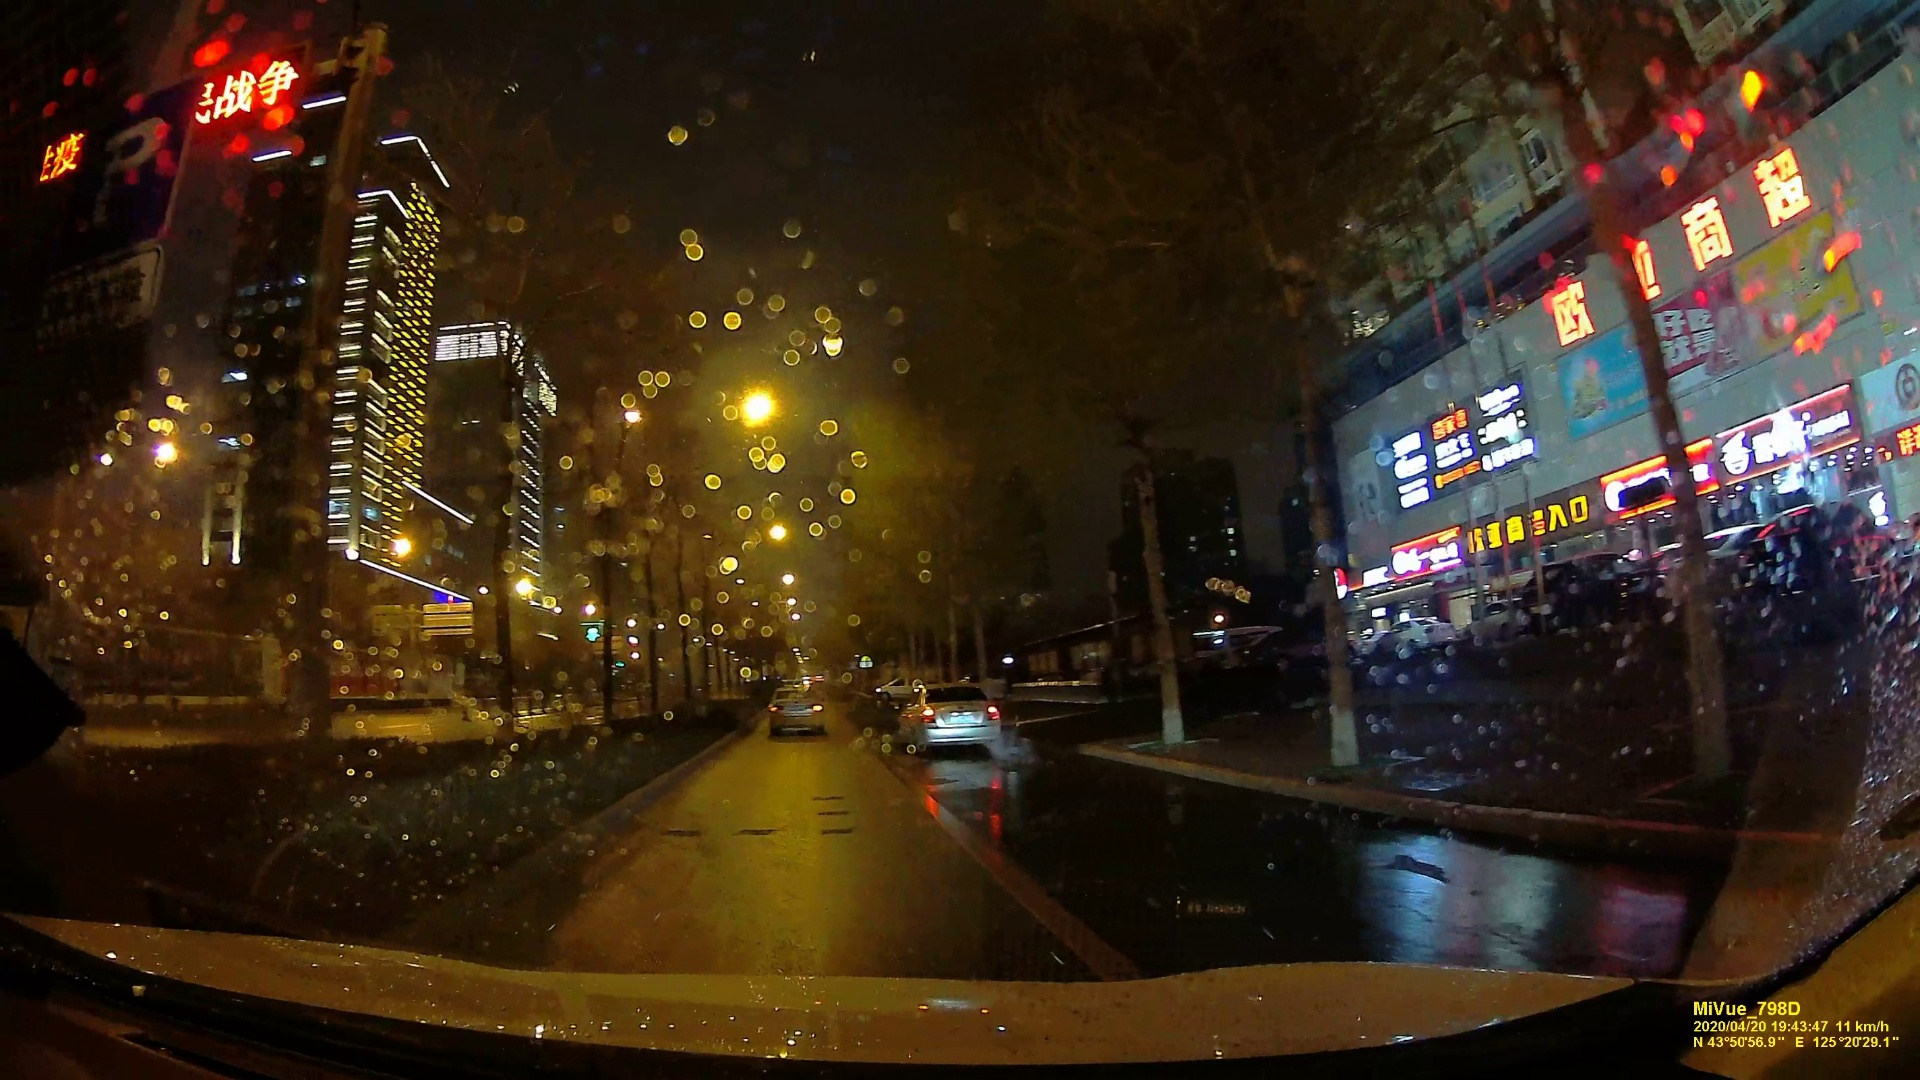vehicle: (906, 683, 1004, 756), (765, 683, 827, 738)
